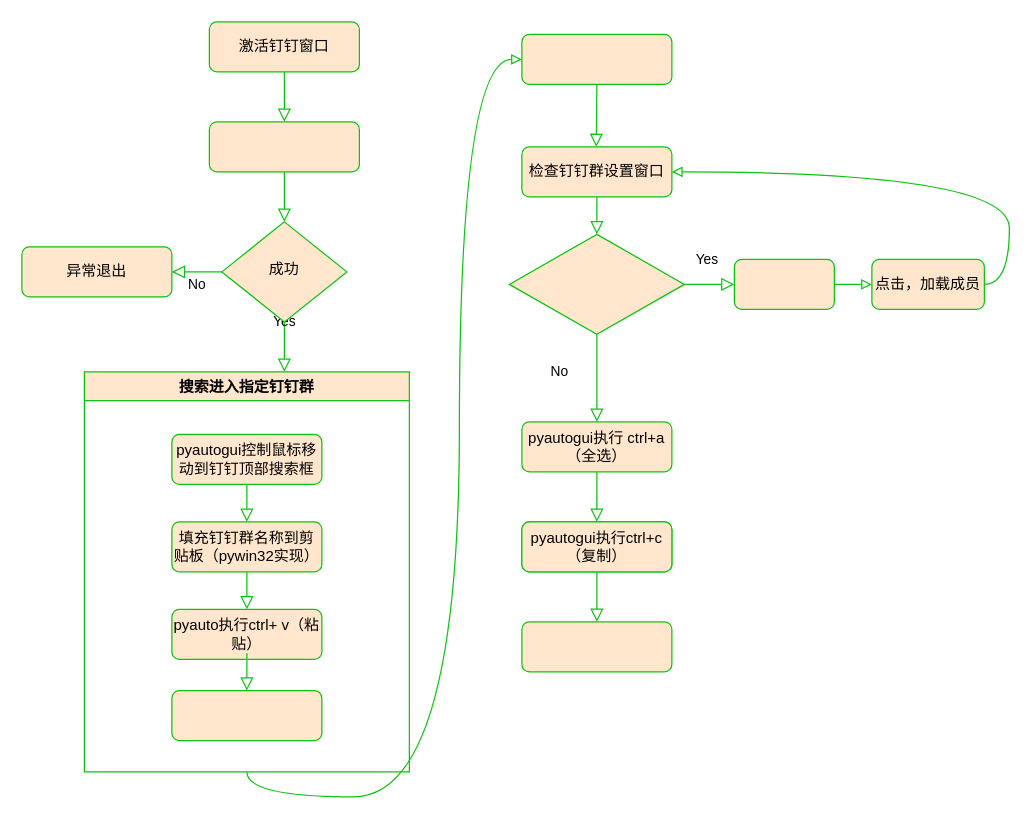
The diagram is 1031 pixels wide and 819 high, and some of its shapes have lost their labels. Each missing label, with the centre of its shape:
pyautogui打开钉钉群设置窗口: (596,58)
pyauto执行enter: (246,715)
图片识别，获取坐标: (783,283)
手工进行数据筛选，过滤出成员昵称: (596,646)
最大化: (283,146)
有“查看更多”文字: (596,283)
